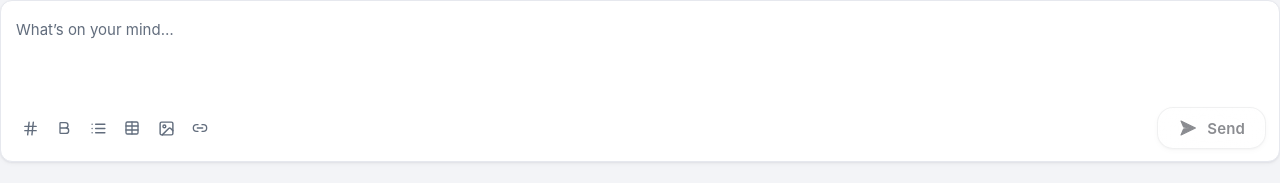
Test: Editor tag suggestions follow the caret › ignores a stale list even if no select event refreshed it
The image size is (1280, 183).
In the dropdown named "Memo content": (640, 49) [14,15,1266,83], type "ab #li"
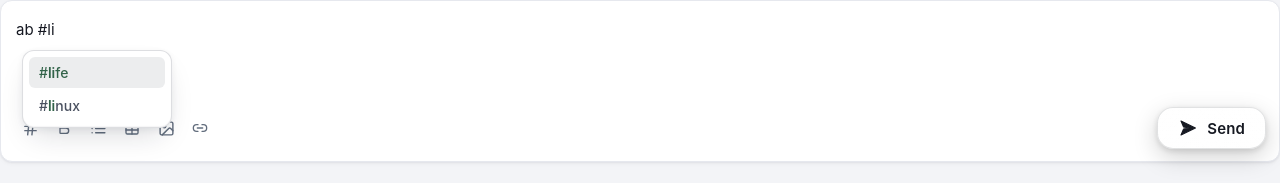
Now the list is shown, box [22,50,172,128]
Press Enter in the dropdown named "Memo content", box [14,15,1266,83]
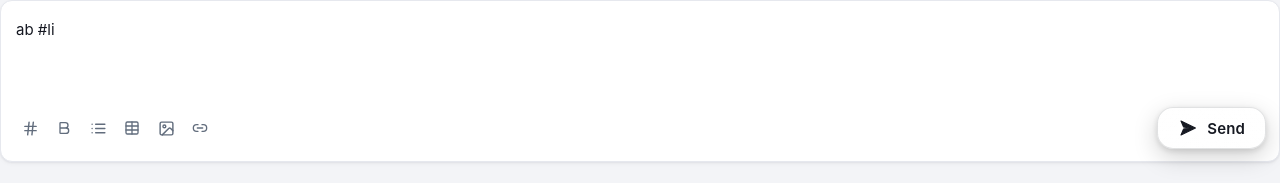
Now the list is gone
